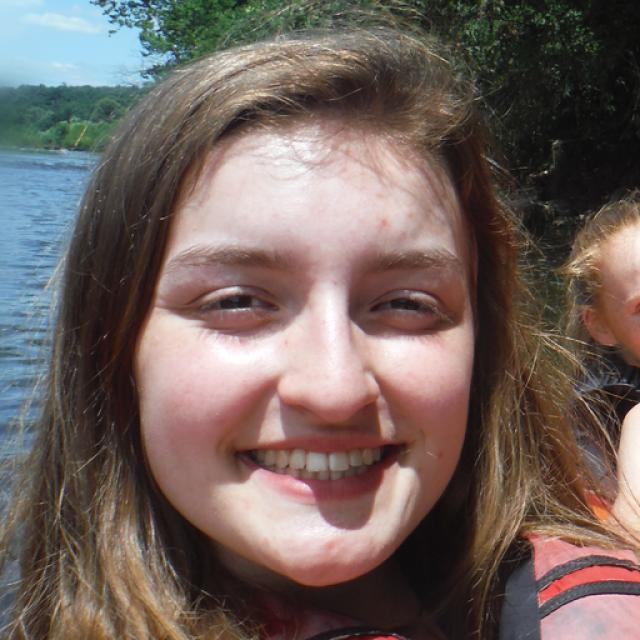Acne: (370, 215, 393, 230)
